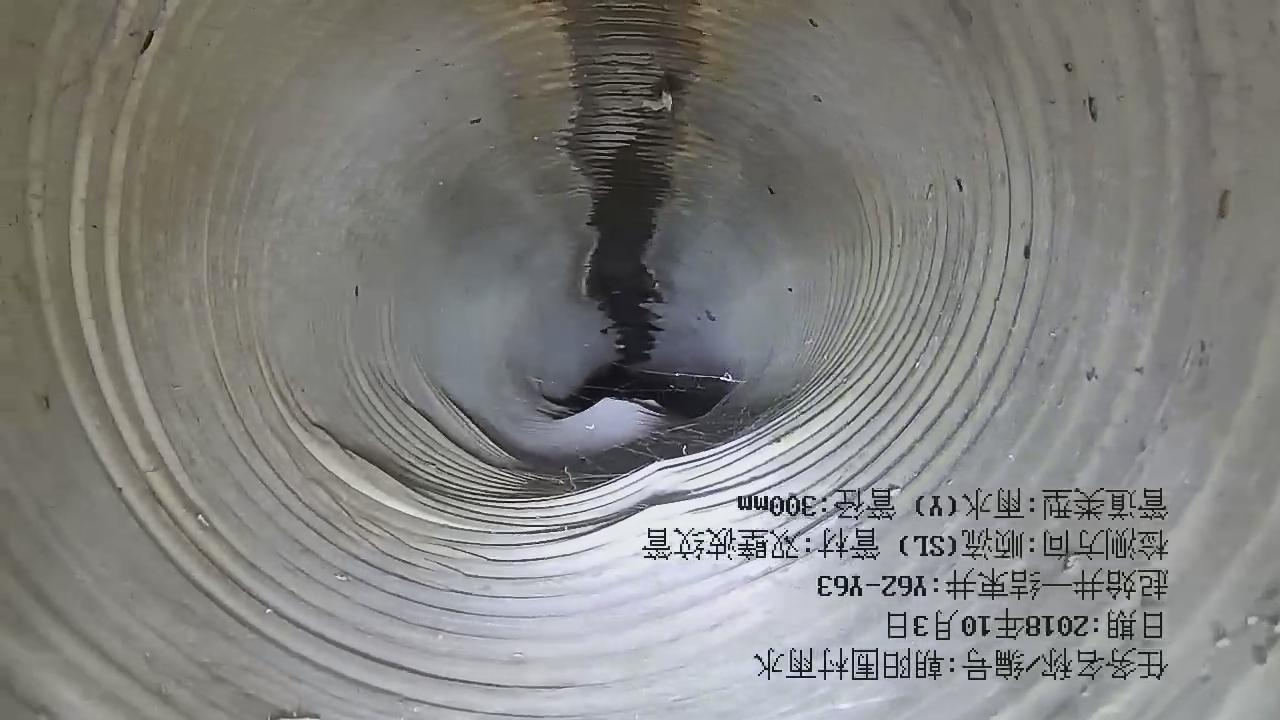BX: (265, 338, 806, 588)
